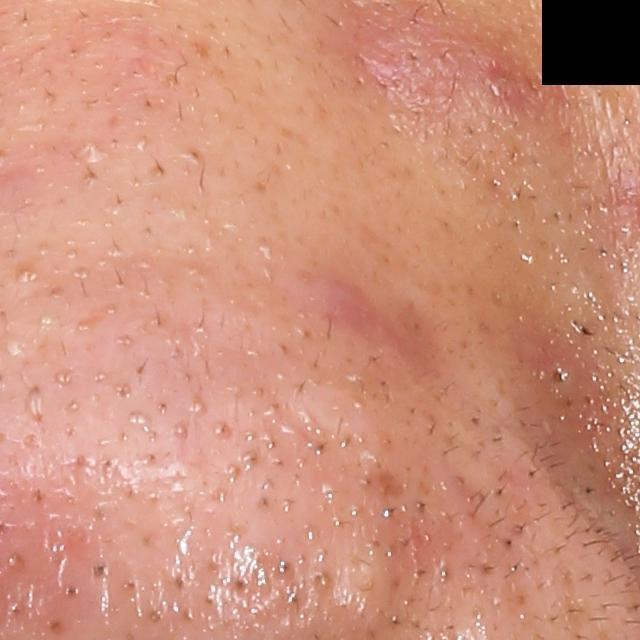comedo: (308, 569, 332, 588)
papule: (278, 257, 376, 333), (525, 343, 594, 410)
